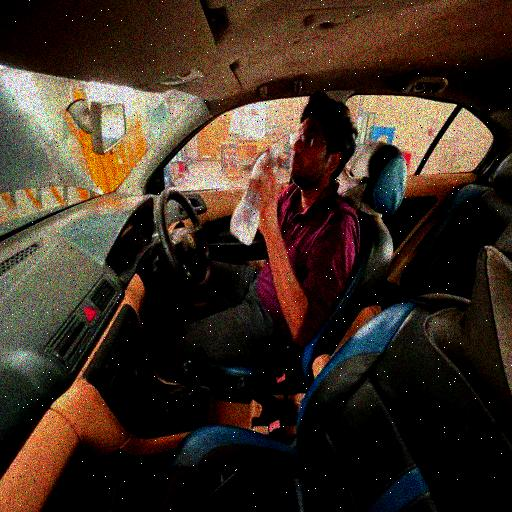Drinking: (198, 92, 362, 357)
